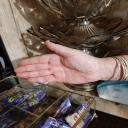OpenPalm: (13, 35, 105, 94)
